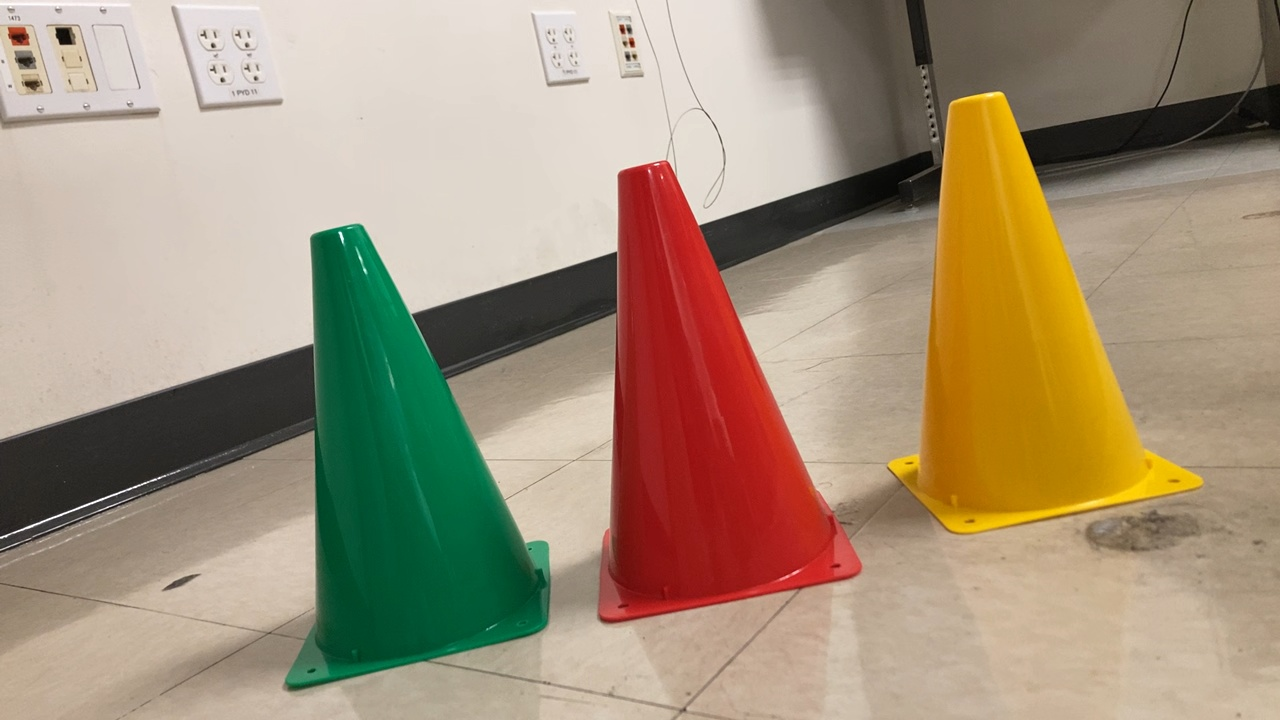green_cone: (254, 216, 555, 696)
red_cone: (584, 152, 866, 632)
yellow_cone: (884, 83, 1208, 545)
